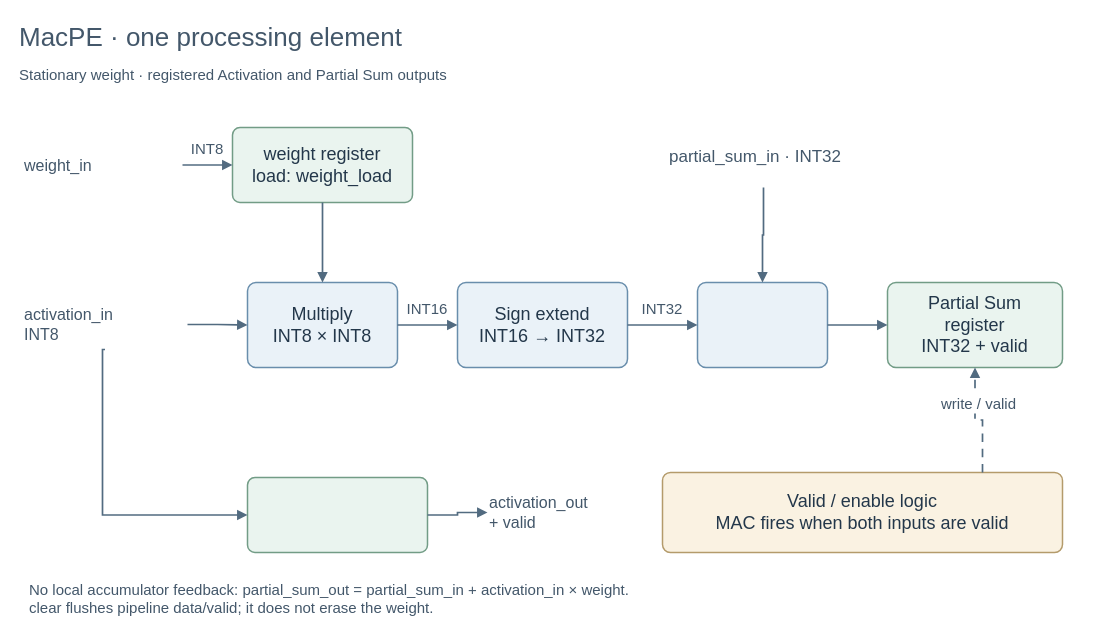
This 1094x637 diagram has some shape labels left out. Here are the shapes that lost their labels. From the top down, the box of each, then its label:
(696, 281, 828, 368): Add INT32
(246, 476, 428, 553): Activation register
